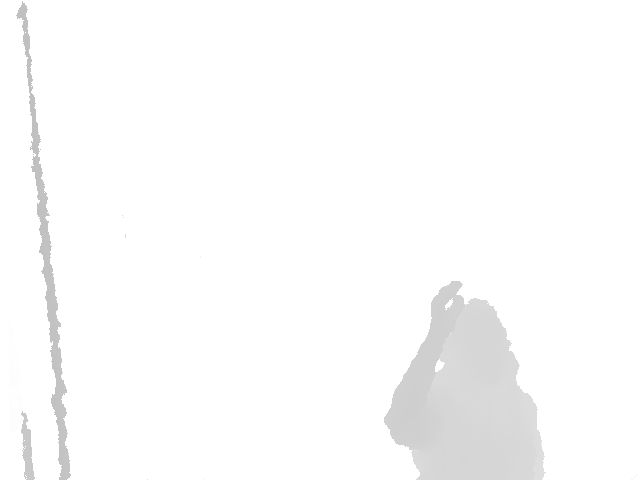hand: (429, 280, 466, 341)
head: (439, 301, 512, 366)
person: (384, 280, 547, 480)
